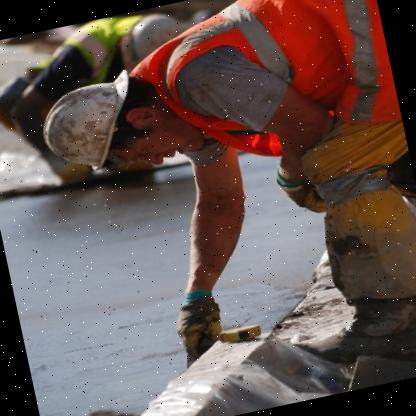bota: (286, 280, 416, 379)
capacete: (32, 53, 210, 192), (129, 10, 181, 62)
